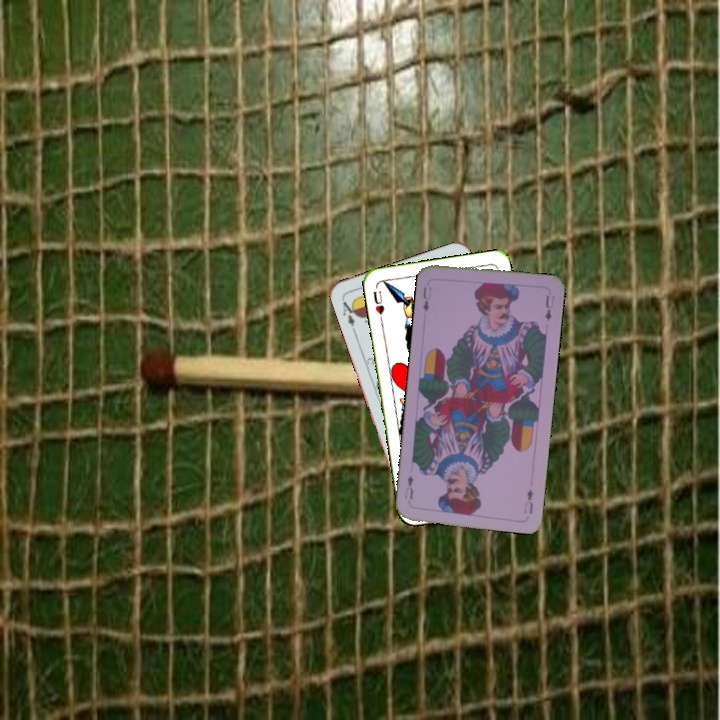EA: (338, 295, 360, 329)
EU: (520, 485, 536, 516), (419, 283, 434, 314)
HU: (369, 286, 387, 317)
